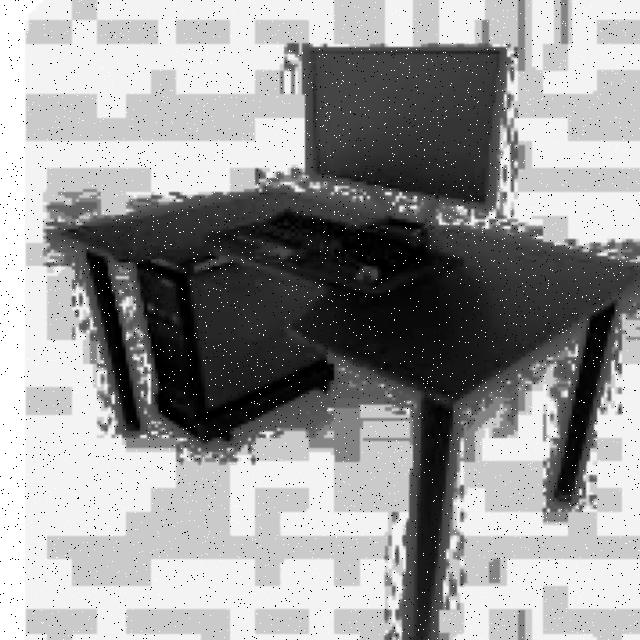table: (50, 185, 640, 640)
